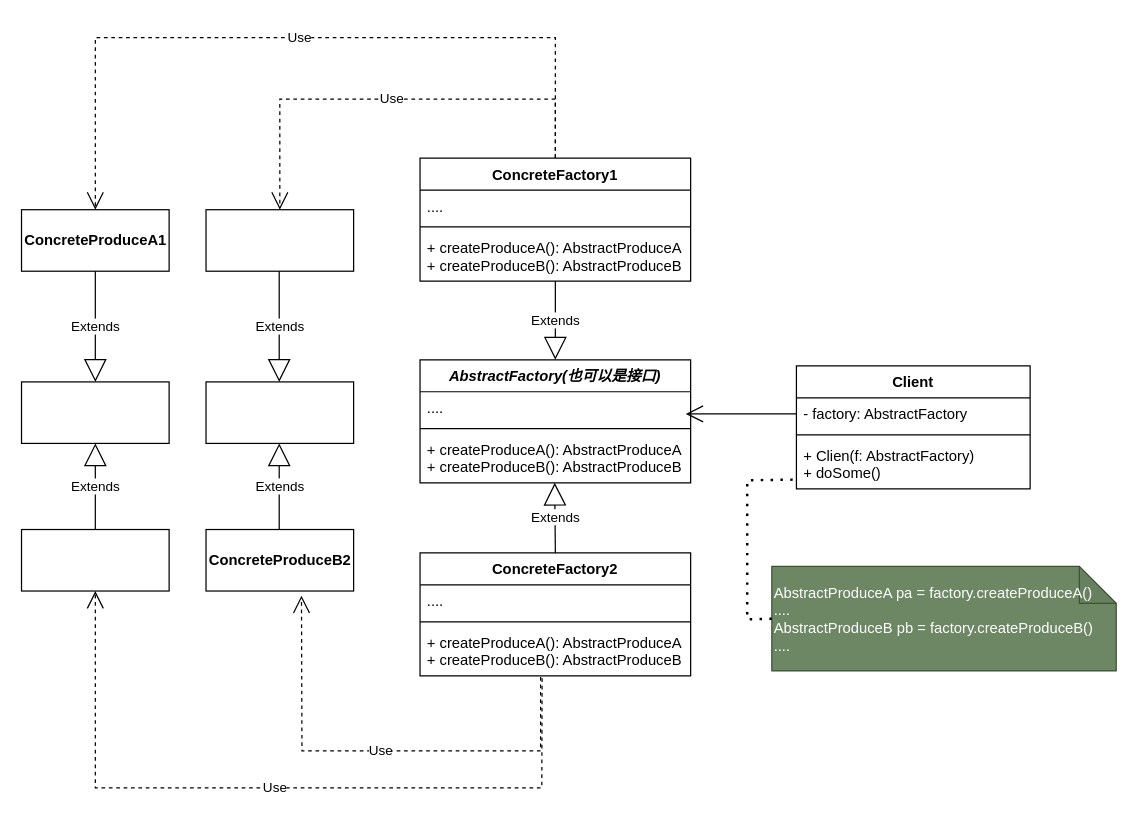
This 1138x827 diagram has some shape labels left out. The shapes that lost their labels are listed below. From the top down, each one's centre as x and y in pixels, then its label:
the point at 279,239: ConcreteProduceB1
the point at 94,412: AbstractProduceA
the point at 279,412: AbstractProduceB
the point at 94,559: ConcreteProduceA2
